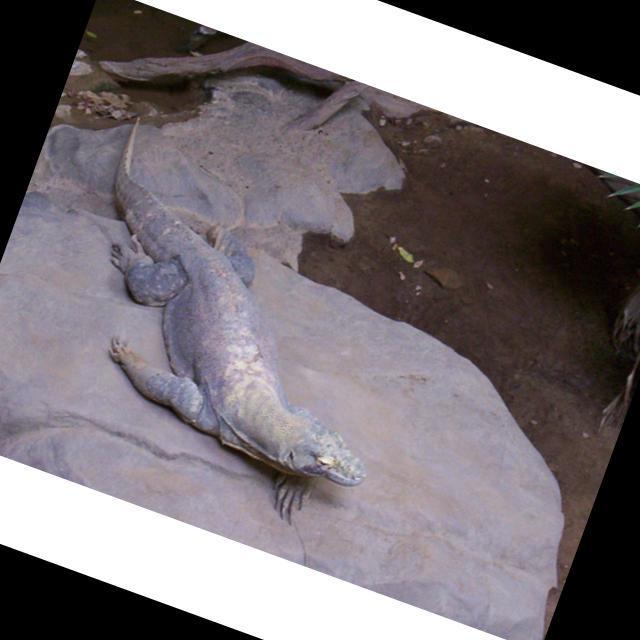KomodoDragon: (14, 105, 460, 549)
